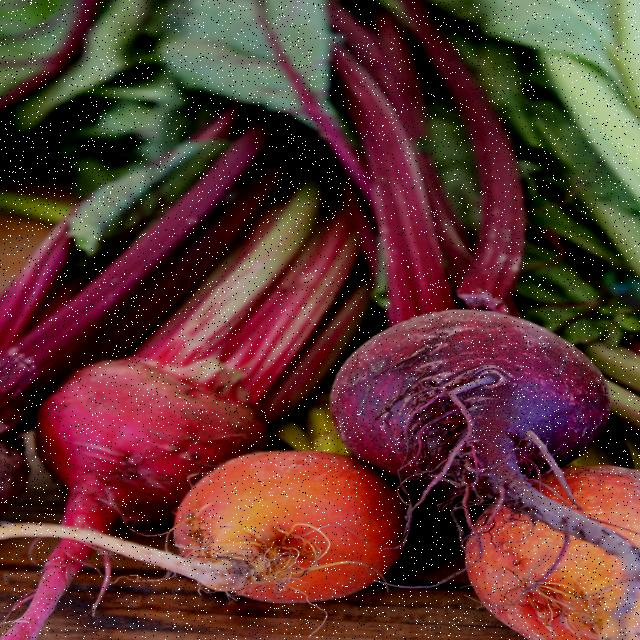Beetroot: (0, 262, 243, 636), (316, 288, 596, 519)
